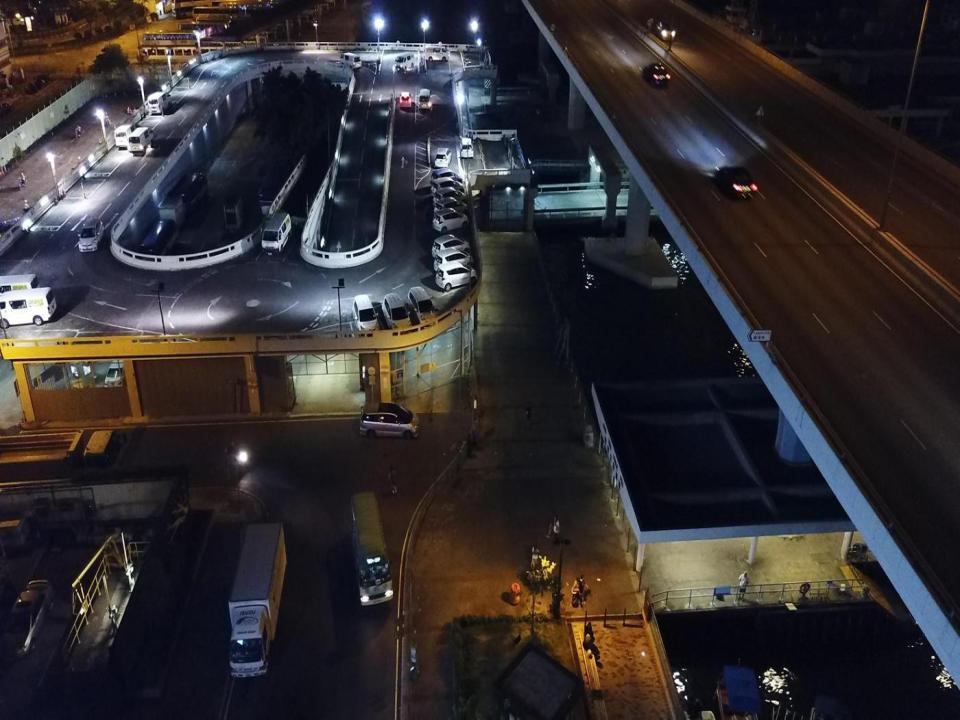bus: (349, 489, 394, 606), (258, 150, 290, 216), (168, 170, 208, 213), (142, 218, 178, 264), (218, 0, 273, 19), (142, 32, 199, 49), (176, 22, 229, 39), (192, 5, 242, 23), (172, 0, 222, 17)
car: (2, 578, 54, 659), (382, 292, 412, 338), (408, 286, 438, 328), (716, 166, 755, 198), (436, 261, 478, 290), (352, 294, 380, 337), (104, 348, 128, 390), (432, 233, 470, 257), (433, 207, 469, 232), (434, 246, 471, 270), (434, 196, 468, 218), (432, 187, 466, 208), (430, 179, 464, 200), (431, 168, 462, 189), (647, 62, 670, 87), (657, 20, 675, 41), (459, 136, 474, 159), (435, 147, 452, 166), (398, 91, 412, 109), (0, 101, 12, 117)
truck: (228, 521, 287, 680)
van: (0, 286, 57, 327), (360, 402, 420, 439), (261, 211, 293, 255), (0, 272, 40, 306), (79, 217, 104, 251), (128, 125, 154, 153), (114, 124, 138, 148), (148, 91, 172, 115), (394, 51, 416, 71), (339, 52, 362, 70), (424, 48, 450, 60), (418, 88, 432, 110)
